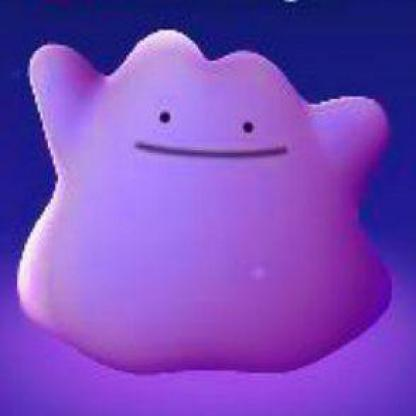Ditto: (1, 1, 416, 410)
